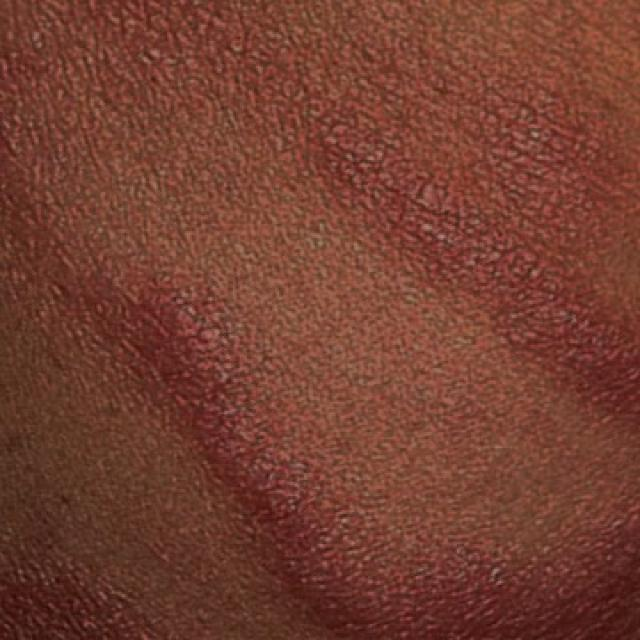Leprosy: (294, 100, 638, 416), (158, 422, 638, 638), (0, 147, 295, 425)
